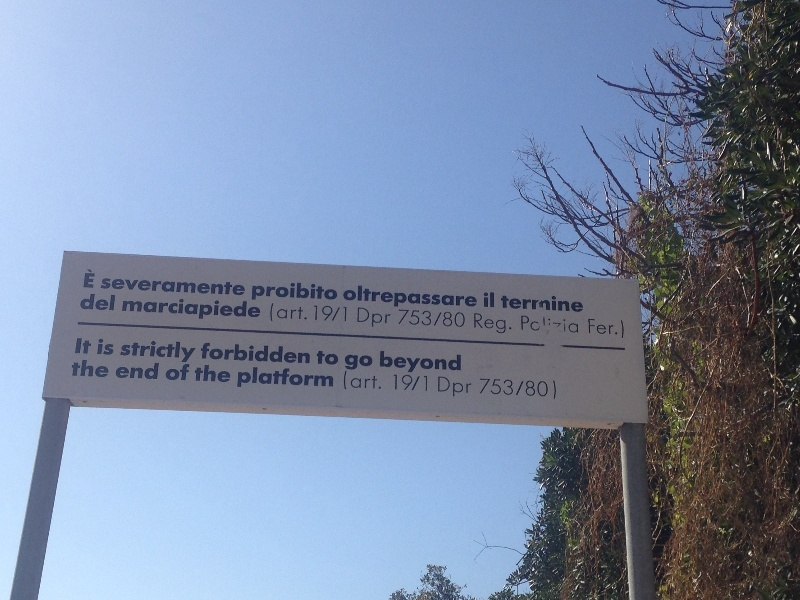text: (129, 295, 144, 322), (145, 295, 160, 322), (161, 295, 176, 322), (177, 295, 192, 322), (193, 295, 208, 322), (209, 295, 224, 322), (225, 295, 240, 322), (241, 295, 256, 322), (385, 350, 400, 376), (401, 350, 416, 376), (417, 350, 432, 376), (433, 350, 448, 376), (353, 286, 368, 311), (369, 286, 384, 311), (385, 286, 400, 311), (401, 286, 416, 311), (417, 286, 432, 311), (433, 286, 448, 311), (449, 286, 464, 311), (241, 366, 256, 391), (257, 366, 272, 391), (273, 366, 288, 391), (289, 366, 304, 391), (305, 366, 320, 391), (209, 341, 224, 365), (225, 341, 240, 365), (241, 341, 256, 365), (257, 341, 272, 365), (273, 341, 288, 365), (289, 341, 304, 365), (609, 318, 625, 340), (257, 281, 272, 304), (273, 281, 288, 304), (289, 281, 304, 304), (305, 281, 320, 304), (321, 281, 336, 304), (129, 340, 144, 363), (145, 340, 160, 363), (161, 340, 176, 363), (177, 340, 192, 363), (593, 318, 608, 340), (481, 313, 496, 335), (497, 313, 512, 335), (369, 307, 384, 329), (449, 376, 464, 398), (321, 366, 334, 391), (353, 370, 368, 391), (529, 379, 544, 400), (449, 350, 461, 376), (113, 277, 128, 297), (129, 277, 144, 297), (145, 277, 160, 297), (161, 277, 176, 297), (177, 277, 192, 297), (193, 277, 208, 297), (209, 277, 224, 297), (225, 277, 240, 297), (465, 286, 477, 311), (513, 294, 528, 314), (529, 294, 544, 314), (545, 294, 560, 314), (561, 294, 576, 314), (529, 315, 544, 335), (545, 315, 560, 335), (561, 315, 576, 335), (273, 302, 288, 322), (289, 302, 304, 322), (209, 364, 224, 384), (97, 293, 112, 312), (81, 359, 96, 378), (481, 377, 496, 396), (497, 377, 512, 396), (369, 370, 382, 391), (449, 311, 465, 328), (401, 309, 416, 327), (417, 309, 432, 327), (82, 293, 96, 312), (195, 364, 208, 384), (129, 363, 144, 380), (353, 354, 368, 371), (357, 307, 368, 329), (321, 350, 336, 366), (145, 363, 159, 380), (99, 338, 112, 356), (545, 379, 556, 400), (97, 359, 109, 378), (343, 286, 352, 311), (321, 305, 335, 321), (177, 364, 190, 381), (401, 374, 414, 391), (501, 294, 512, 314), (438, 376, 448, 398), (484, 291, 496, 308), (81, 338, 93, 355), (86, 269, 96, 289), (102, 277, 112, 297), (515, 381, 528, 396), (117, 363, 128, 380), (436, 312, 448, 326), (201, 341, 208, 365), (344, 370, 352, 391), (520, 315, 528, 335), (465, 376, 472, 398), (167, 364, 176, 381), (343, 306, 352, 322), (305, 341, 311, 365), (577, 294, 584, 314), (225, 364, 232, 384), (122, 340, 128, 363), (257, 295, 262, 322), (423, 376, 432, 391), (73, 359, 80, 378), (474, 313, 480, 335), (385, 307, 391, 329), (345, 354, 352, 371), (393, 374, 400, 391), (313, 305, 320, 321), (124, 295, 128, 322), (380, 350, 384, 376), (241, 277, 246, 297), (193, 340, 197, 363), (588, 318, 592, 340), (331, 307, 336, 322), (253, 281, 256, 304), (444, 311, 448, 328), (76, 338, 80, 355), (369, 354, 373, 371), (316, 350, 320, 366), (305, 302, 308, 322), (113, 293, 116, 312), (417, 376, 421, 390), (238, 366, 240, 391), (337, 307, 340, 322), (577, 315, 579, 335), (337, 350, 339, 366), (414, 376, 416, 390), (337, 281, 338, 304), (527, 379, 528, 400), (271, 302, 272, 322), (513, 377, 514, 396), (399, 309, 400, 327), (113, 338, 114, 356)
